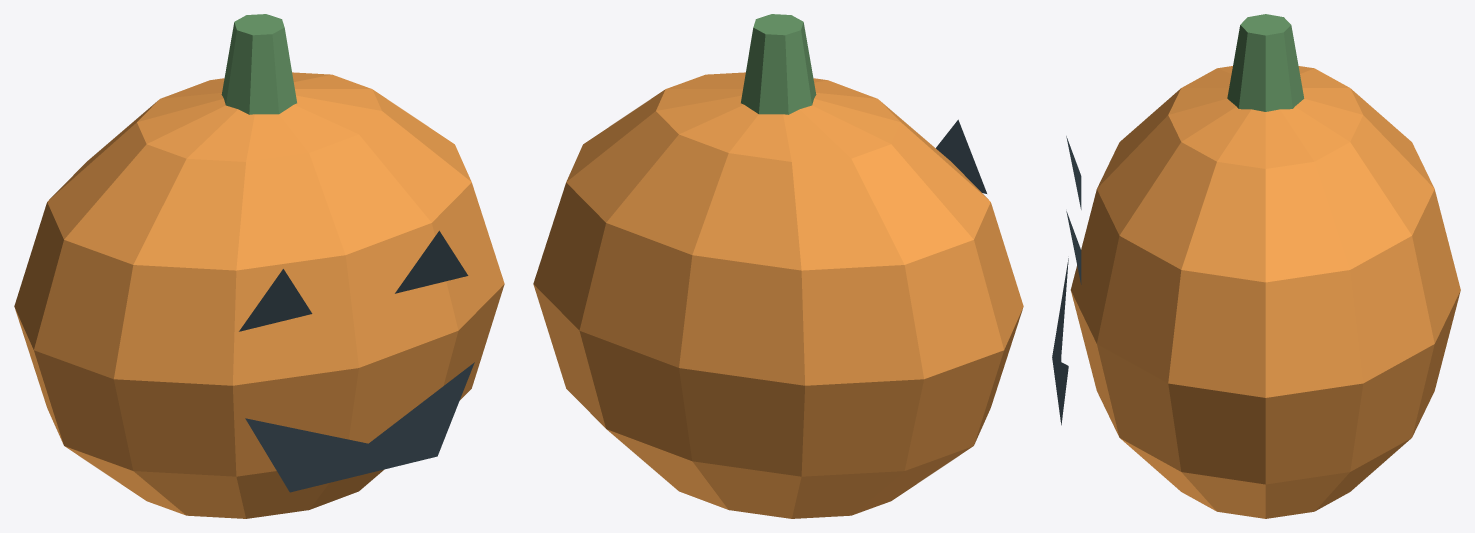
File: pumpkin_lantern.glb
3 renders of one model, left to right at view 1: azimuth 30°, elevation 25°; view 2: azimuth 150°, elevation 25°; view 3: azimuth 270°, elevation 25°, orthographic. The views are drawn at different scales.
Visible parts, largest first — view 1: pumpkin, grin, stem, eye.001, eye; view 2: pumpkin, stem, eye; view 3: pumpkin, stem, grin.
Boxes of the visible parts, x1,y1,x2,y2 form: pumpkin: [14, 72, 504, 518]; grin: [245, 362, 474, 492]; stem: [221, 14, 296, 114]; eye.001: [395, 230, 468, 293]; eye: [239, 269, 312, 331]; pumpkin: [533, 72, 1023, 518]; stem: [741, 14, 816, 114]; eye: [936, 119, 986, 193]; pumpkin: [1070, 66, 1460, 518]; stem: [1227, 14, 1304, 111]; grin: [1052, 258, 1068, 425].
Size of the model in its own units: 1.1 by 1.11 by 0.88.
